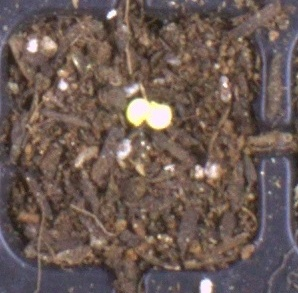chilli seed: (125, 97, 152, 127), (148, 100, 172, 130)
